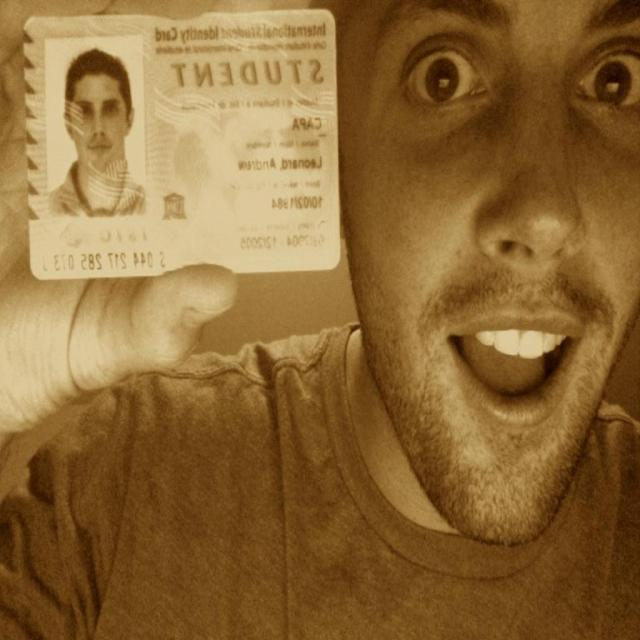nomask: (347, 20, 638, 542), (72, 67, 122, 158)
